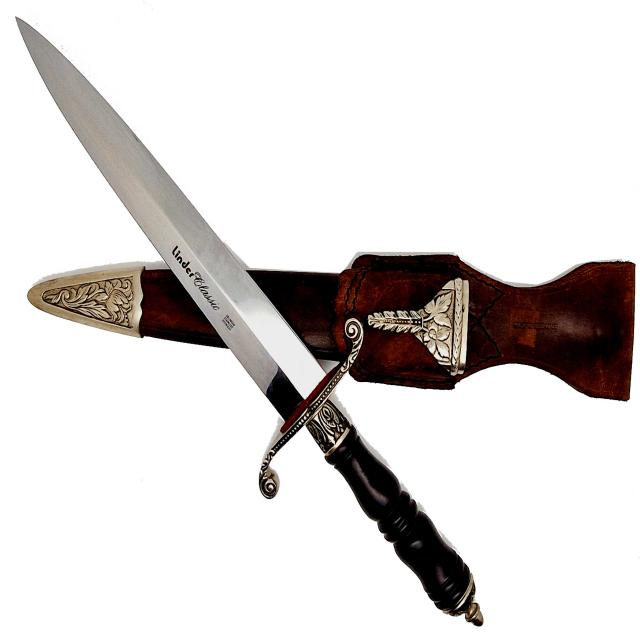short sword: (9, 15, 498, 630)
